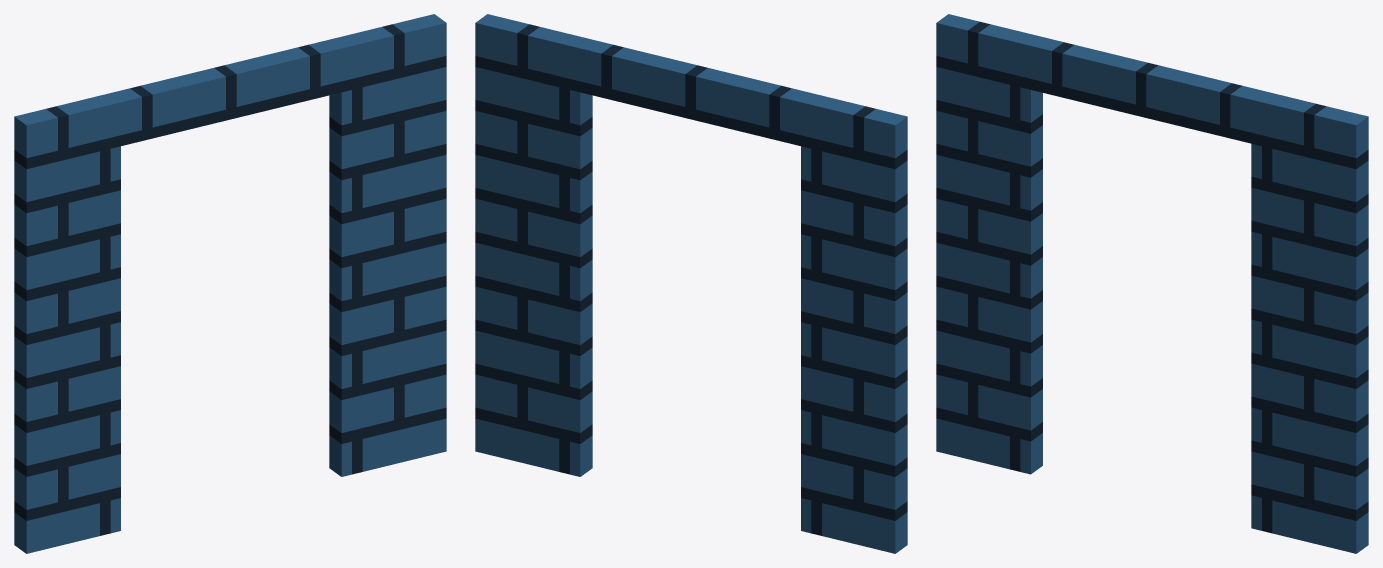
Rendered from ConstructionMaterials-48.obj.
The picture shows the model from 3 angles, left to right: view 1: azimuth 30°, elevation 25°; view 2: azimuth 150°, elevation 25°; view 3: azimuth 330°, elevation 25°; orthographic projection.
Size of the model in its own units: 4 by 3.9 by 0.2.
1 material, 1 textured.
